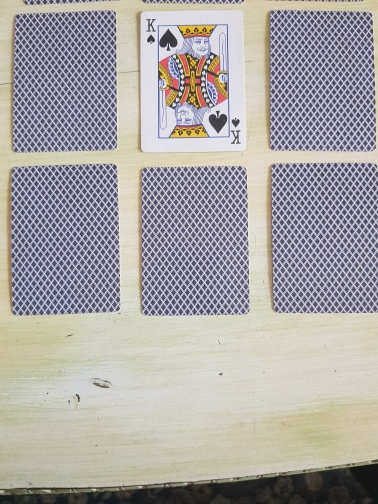king: (140, 11, 246, 151)
